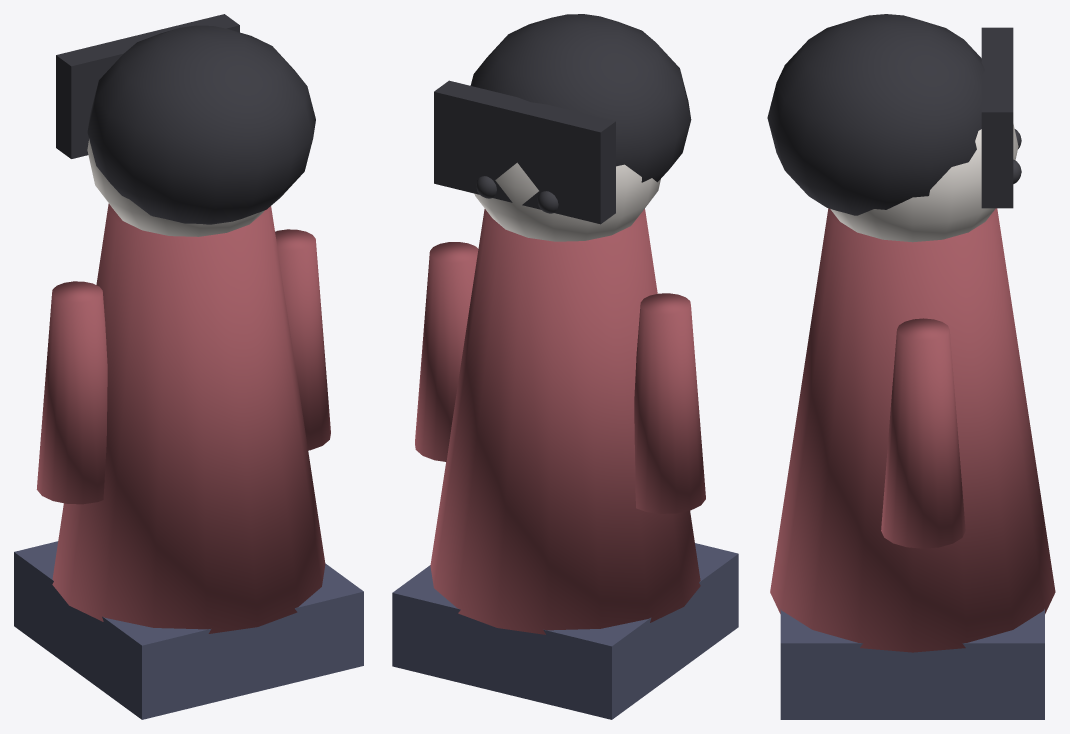
File: prop_hitogata.glb
3 views of the same model, side by side, from view 1: azimuth 30°, elevation 25°; view 2: azimuth 150°, elevation 25°; view 3: azimuth 270°, elevation 25° (orthographic). The views are drawn at different scales.
Parts seen in each view (by area): view 1: hitogata; view 2: hitogata; view 3: hitogata.
Boxes of the visible parts, x1,y1,x2,y2 form: hitogata: (14,14,363,719); hitogata: (392,14,738,719); hitogata: (767,14,1055,719).
Size of the model in its own units: 0.64 by 1.33 by 0.545.
